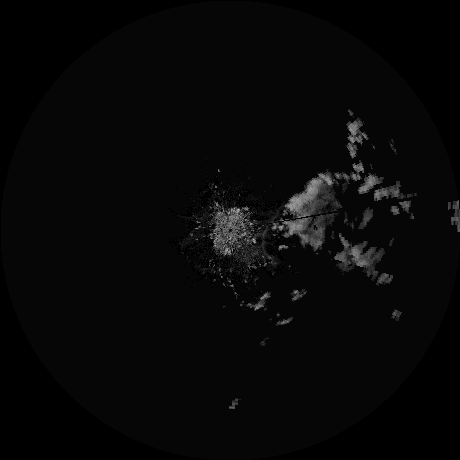frontgust: (260, 221, 278, 268)
